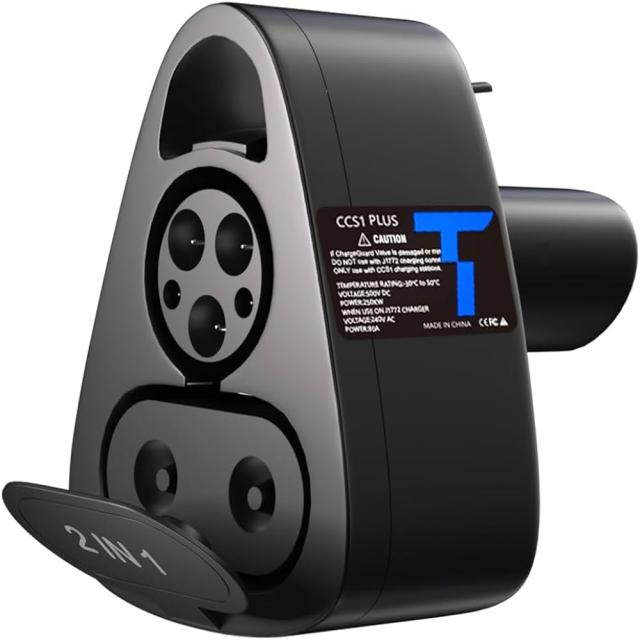CCS1: (83, 133, 324, 594)
